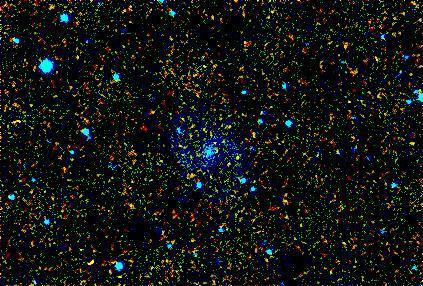star: (178, 157, 208, 187)
